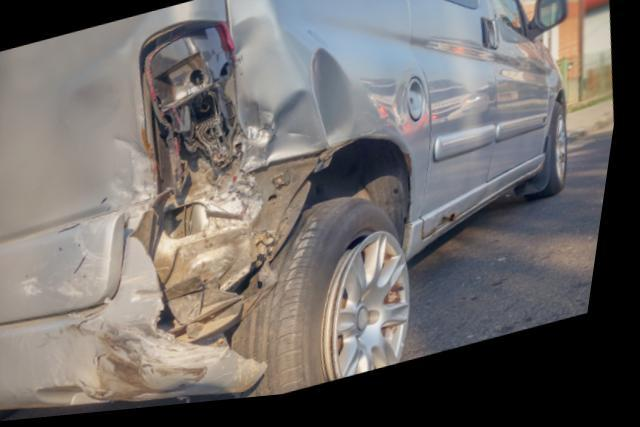dent: (16, 49, 162, 221), (238, 20, 364, 165)
no part: (139, 25, 334, 363)
scratch: (93, 312, 227, 403)
tire flat: (244, 201, 425, 404)
